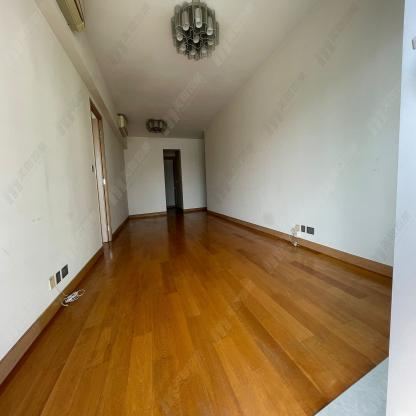AC: (56, 0, 87, 32), (118, 115, 128, 137)
